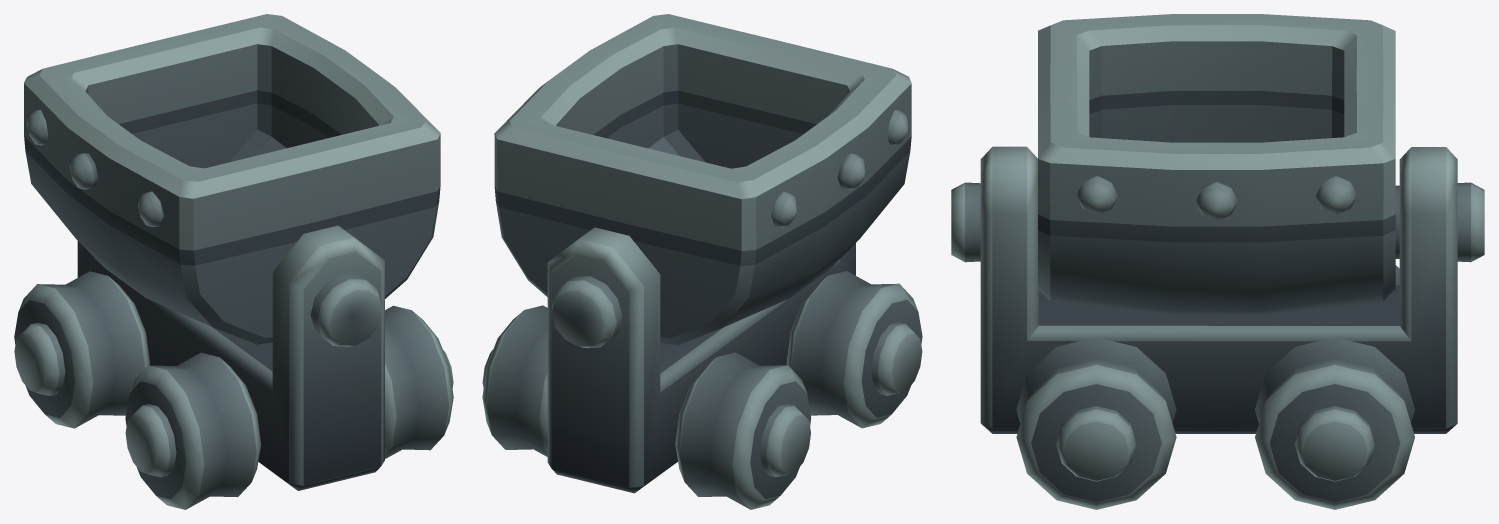
File: minecart.fbx
3 renders of one model, left to right at view 1: azimuth 30°, elevation 25°; view 2: azimuth 150°, elevation 25°; view 3: azimuth 270°, elevation 25°, orthographic. The views are drawn at different scales.
Visible parts, largest first — view 1: minecart; view 2: minecart; view 3: minecart.
Boxes of the visible parts, x1,y1,x2,y2 form: minecart: (14, 14, 453, 509); minecart: (482, 14, 922, 509); minecart: (951, 14, 1484, 509).
Size of the model in its own units: 135 by 134 by 180.
